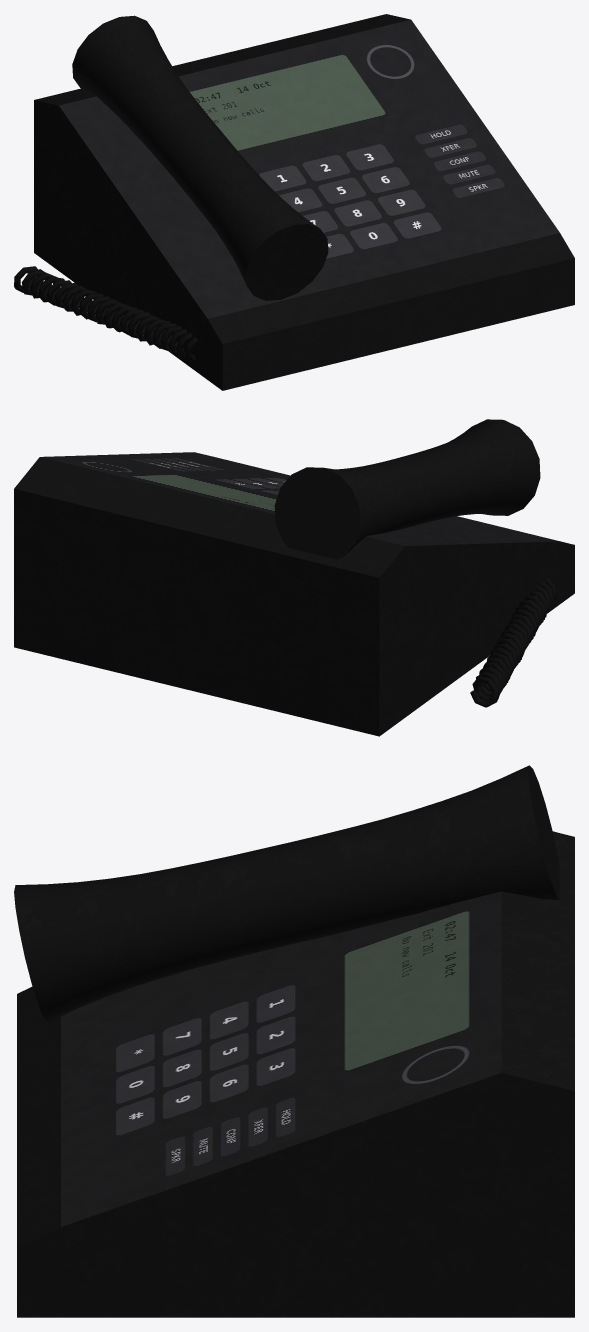
File: DeskPhone.obj
3 views of the same model, one above another, from view 1: azimuth 30°, elevation 25°; view 2: azimuth 150°, elevation 25°; view 3: azimuth 270°, elevation 25° (orthographic). The views are drawn at different scales.
Parts seen in each view (by area): view 1: Body, Face, Rubber; view 2: Body, Face, Rubber; view 3: Body, Face.
Boxes of the visible parts, x1,y1,x2,y2 form: Body: [34, 14, 574, 390]; Face: [59, 19, 559, 318]; Rubber: [14, 266, 197, 362]; Body: [14, 419, 574, 736]; Face: [41, 452, 558, 545]; Rubber: [470, 578, 556, 707]; Body: [14, 765, 574, 1317]; Face: [61, 891, 501, 1226].
Bounding box in the file's own units: 0.2438 × 0.1282 × 0.191.
3 materials, 2 textured.
